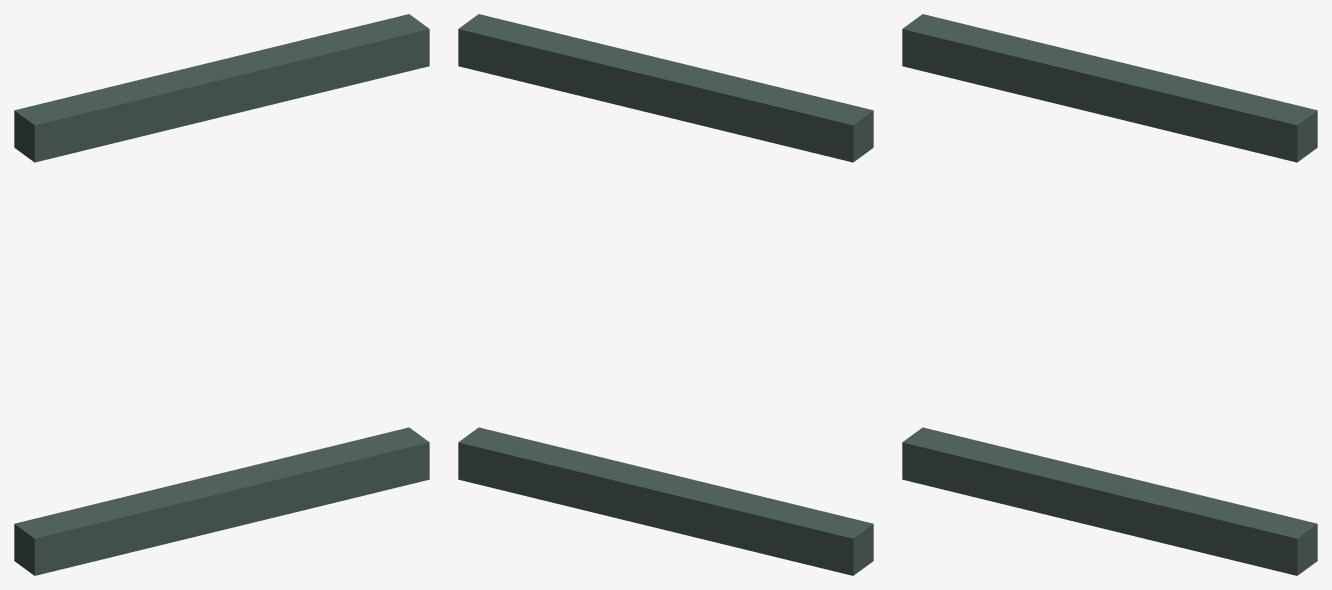
File: Solid_RodX_Y2.gltf
3 renders of one model, left to right at view 1: azimuth 30°, elevation 25°; view 2: azimuth 150°, elevation 25°; view 3: azimuth 330°, elevation 25°, orthographic.
Parts seen in each view (by area): view 1: Solid_RodX_Y2_baked; view 2: Solid_RodX_Y2_baked; view 3: Solid_RodX_Y2_baked.
Part boxes in pixels (bbox=[...]): Solid_RodX_Y2_baked: bbox=[14, 14, 429, 575]; Solid_RodX_Y2_baked: bbox=[458, 14, 873, 575]; Solid_RodX_Y2_baked: bbox=[902, 14, 1317, 575].
Bounding box in the file's own units: 1 × 1.09 × 0.09.
